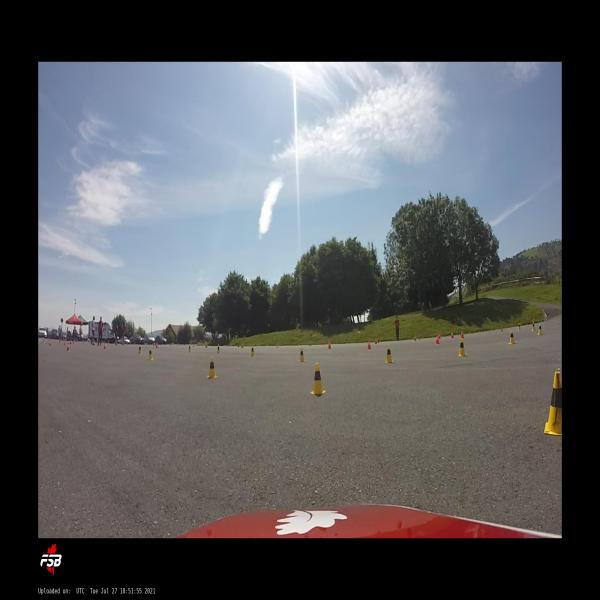orange_cone: (66, 343, 70, 352), (368, 340, 371, 349), (436, 335, 439, 344), (461, 330, 464, 339), (328, 342, 331, 349), (438, 334, 441, 340), (103, 344, 106, 350), (451, 332, 453, 338)
yellow_cone: (544, 372, 562, 434), (310, 364, 326, 395), (207, 358, 218, 379), (458, 339, 467, 357), (385, 346, 393, 364), (509, 330, 515, 345), (299, 348, 305, 362), (537, 323, 543, 335), (250, 344, 255, 357), (531, 321, 536, 332), (148, 350, 153, 360), (138, 346, 142, 355), (217, 344, 220, 354), (518, 322, 521, 331), (188, 344, 191, 352)
